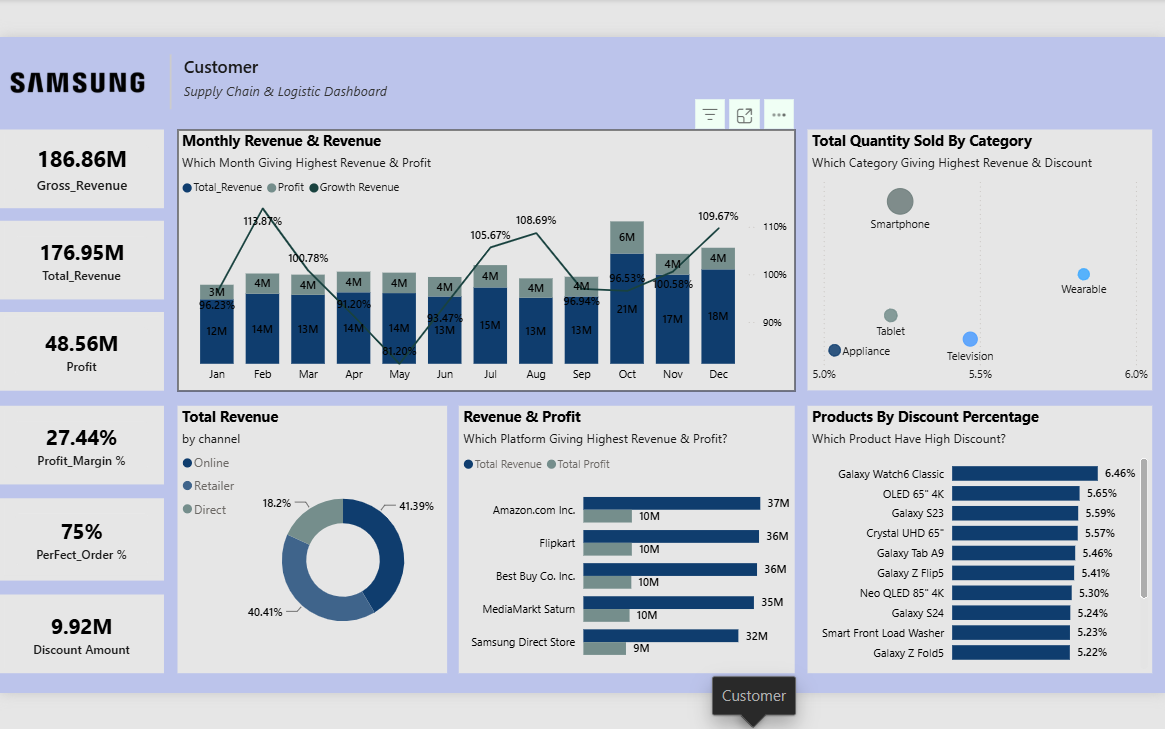

What the dashboard file says about the page in this screenshot:
{"tool":"powerbi","page":{"name":"Customer","canvas":[1280,720],"ordinal":5},"visuals":[{"type":"shape","title":"Customer","box":[201.7,18.8,278.6,60.4],"z":0},{"type":"shape","box":[172.9,18.8,28.8,60.4],"z":1000},{"type":"image","box":[0,18.8,163.3,60.4],"z":2000},{"type":"cardVisual","fields":{"Data":["Measures Table.Total_Revenue"]},"box":[0,201.7,179.8,86.4],"z":3000},{"type":"cardVisual","fields":{"Data":["Measures Table.Profit"]},"box":[0,301.9,179.8,86.4],"z":4000},{"type":"cardVisual","fields":{"Data":["Measures Table.Profit_Margin %"]},"box":[0,404.8,179.8,86.4],"z":5000},{"type":"cardVisual","fields":{"Data":["Measures Table.PerFect_Order %"]},"box":[0,506.3,179.8,90.6],"z":6000},{"type":"cardVisual","fields":{"Data":["Sum(fact_sales.discount_amount)"]},"box":[0,612,179.8,86.4],"z":7000},{"type":"cardVisual","fields":{"Data":["Sum(fact_sales.gross_revenue)"]},"box":[0,101.5,180,86.4],"z":8000},{"type":"clusteredBarChart","title":"Revenue & Profit ","fields":{"Category":["dim_customer.customer_name"],"Y":["Measures Table.Total_Revenue","Sum(fact_sales.profit)"]},"box":[503.6,404.8,369.1,293.7],"z":9000},{"type":"donutChart","title":"Total Revenue","fields":{"Y":["Measures Table.Total_Revenue"],"Category":["dim_customer.channel_type"]},"box":[194.9,404.8,296.4,293.7],"z":10000},{"type":"lineStackedColumnComboChart","title":"Monthly Revenue & Revenue","fields":{"Category":["dim_date.Month_Short"],"Y":["Measures Table.Total_Revenue","Sum(fact_sales.profit)"],"Y2":["Measures Table.Growth Revenue"]},"box":[194.9,101.5,677.9,286.8],"z":12000},{"type":"clusteredBarChart","title":"Products By Discount Percentage","fields":{"Y":["Measures Table.Discount %"],"Category":["dim_product.product_name"]},"box":[886.5,404.8,378.7,293.7],"z":13000},{"type":"scatterChart","title":"Total Quantity Sold By Category","fields":{"X":["Measures Table.Discount %"],"Y":["Sum(fact_sales.quantity_sold)"],"Series":["dim_product.category"],"Size":["Measures Table.Total_Revenue"]},"box":[886.5,101.5,378.7,286.8],"z":14000}]}

Visuals, with their boxes on the page's 1280x720 design canvas (x1, y1, x2, y2). These are canvas units, not pixel positions in the 1165x729 screenshot, which may show the page scaled, cropped or inside an application window:
"Customer" shape: 202/19/480/79
shape: 173/19/202/79
image: 0/19/163/79
cardVisual - Measures Table.Total_Revenue: 0/202/180/288
cardVisual - Measures Table.Profit: 0/302/180/388
cardVisual - Measures Table.Profit_Margin %: 0/405/180/491
cardVisual - Measures Table.PerFect_Order %: 0/506/180/597
cardVisual - Sum(fact_sales.discount_amount): 0/612/180/698
cardVisual - Sum(fact_sales.gross_revenue): 0/102/180/188
"Revenue & Profit " clusteredBarChart: 504/405/873/698
"Total Revenue" donutChart: 195/405/491/698
"Monthly Revenue & Revenue" lineStackedColumnComboChart: 195/102/873/388
"Products By Discount Percentage" clusteredBarChart: 886/405/1265/698
"Total Quantity Sold By Category" scatterChart: 886/102/1265/388
